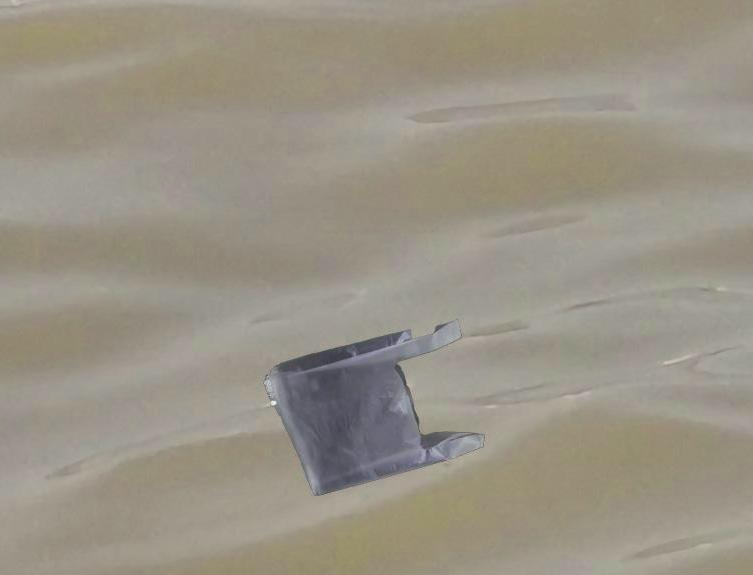Trash: (263, 321, 481, 496)
